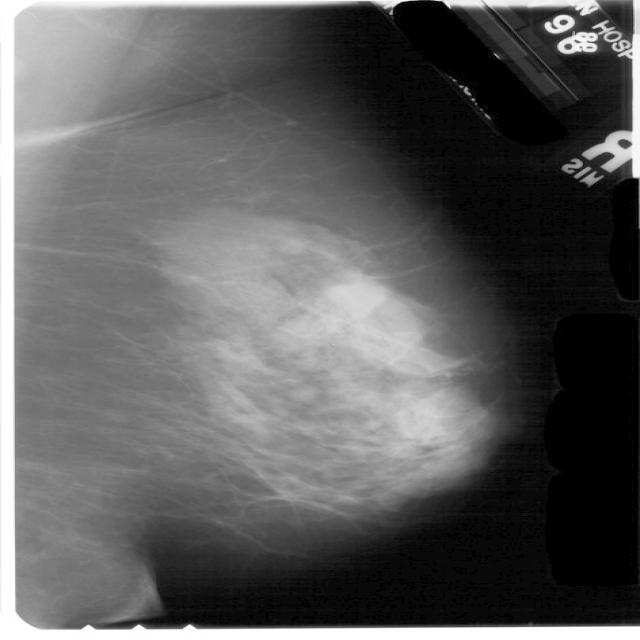tumour: (324, 274, 388, 316)
